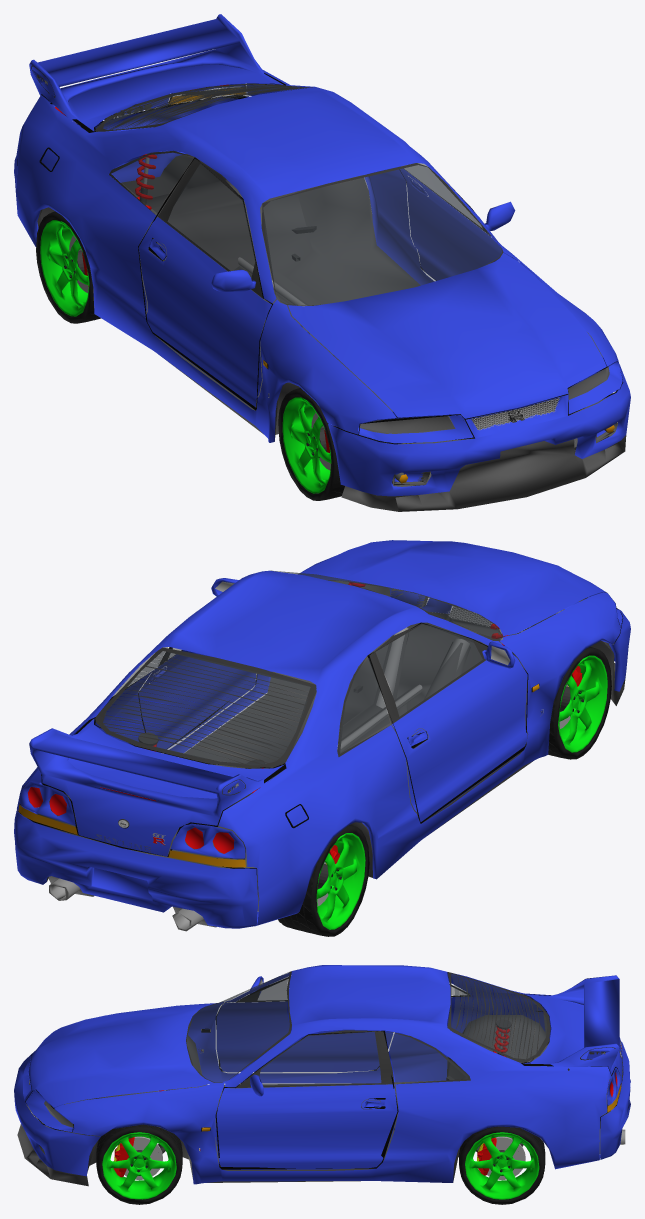
3 views of the same model, one above another, from view 1: azimuth 30°, elevation 25°; view 2: azimuth 150°, elevation 25°; view 3: azimuth 270°, elevation 25° (orthographic). The views are drawn at different scales.
Visible parts, largest first — view 1: Car, wheel_fr, wheel_rr, Suspension; view 2: Car, wheel_rr, wheel_fr, Suspension, Details; view 3: Car, wheel_fl, wheel_rl, Suspension.
Boxes of the visible parts, bbox=[...] form: Car: bbox=[14, 14, 630, 511]; wheel_fr: bbox=[278, 388, 344, 500]; wheel_rr: bbox=[36, 211, 100, 323]; Suspension: bbox=[69, 152, 330, 470]; Car: bbox=[14, 540, 630, 931]; wheel_rr: bbox=[278, 824, 369, 936]; wheel_fr: bbox=[548, 646, 611, 759]; Suspension: bbox=[138, 582, 582, 906]; Details: bbox=[94, 709, 543, 852]; Car: bbox=[14, 965, 630, 1186]; wheel_fl: bbox=[96, 1124, 182, 1204]; wheel_rl: bbox=[459, 1126, 545, 1204]; Suspension: bbox=[113, 1019, 525, 1179].
Size of the model in its own units: 1.99 by 1.38 by 4.67.
